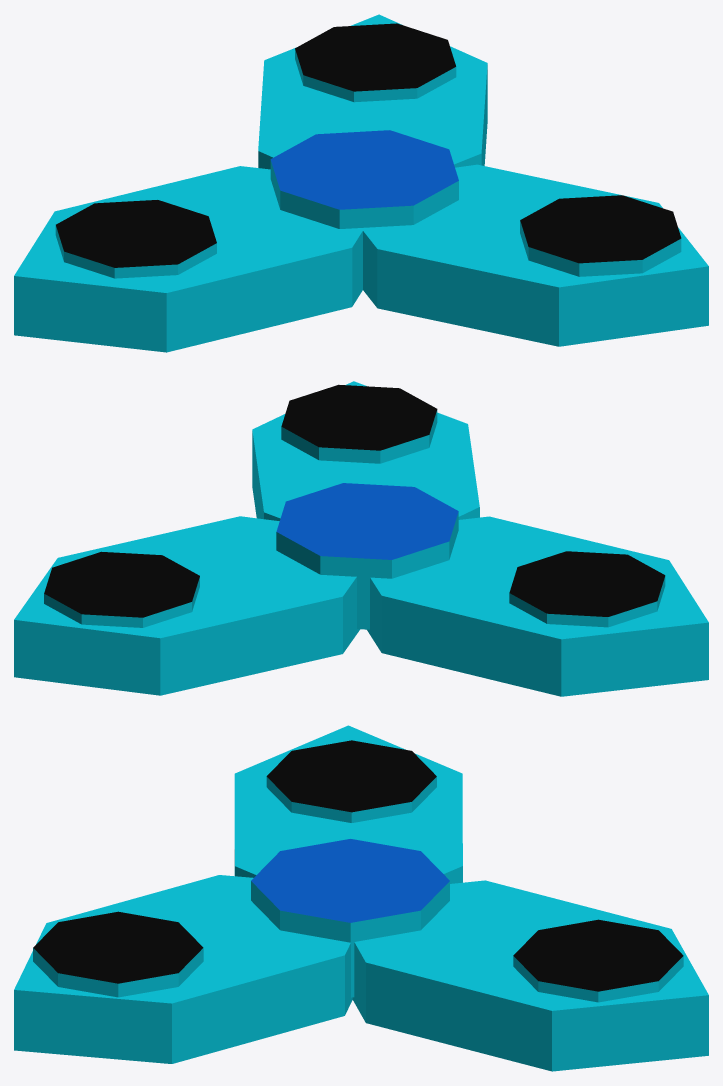
File: Spinner.fbx
3 renders of one model, top to bottom at view 1: azimuth 30°, elevation 25°; view 2: azimuth 150°, elevation 25°; view 3: azimuth 270°, elevation 25°, orthographic. The views are drawn at different scales.
Parts seen in each view (by area): view 1: Cube.006; view 2: Cube.006; view 3: Cube.006.
Part boxes in pixels (x1,y1,x2,y2): Cube.006: [14, 14, 708, 352]; Cube.006: [14, 381, 708, 696]; Cube.006: [14, 725, 708, 1071].
Size of the model in its own units: 838 by 110 by 862.
